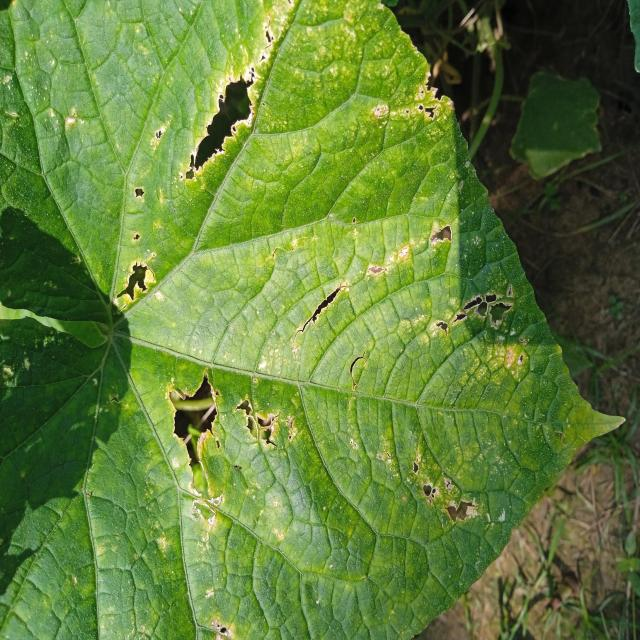cucumber_anthracnose: (86, 56, 526, 636)
